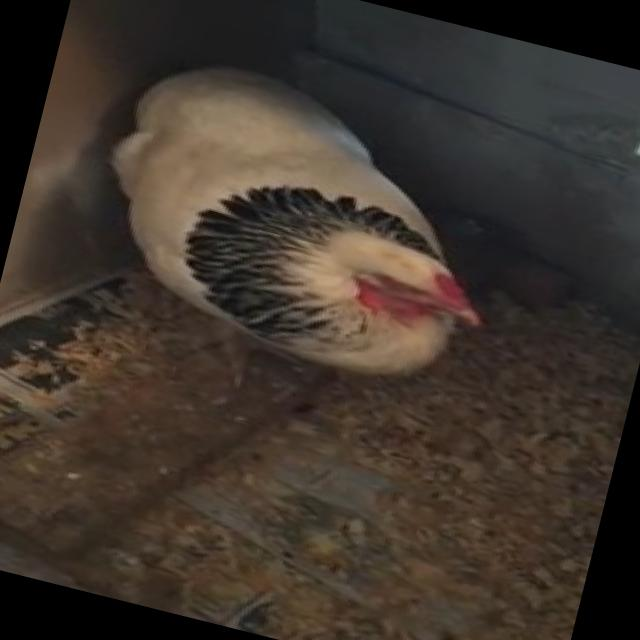Breathing: (78, 42, 540, 404)
